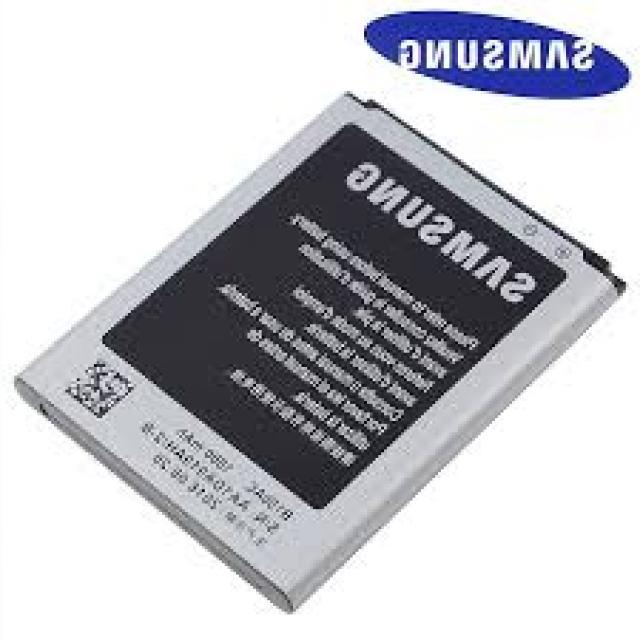battery: (14, 91, 625, 613)
